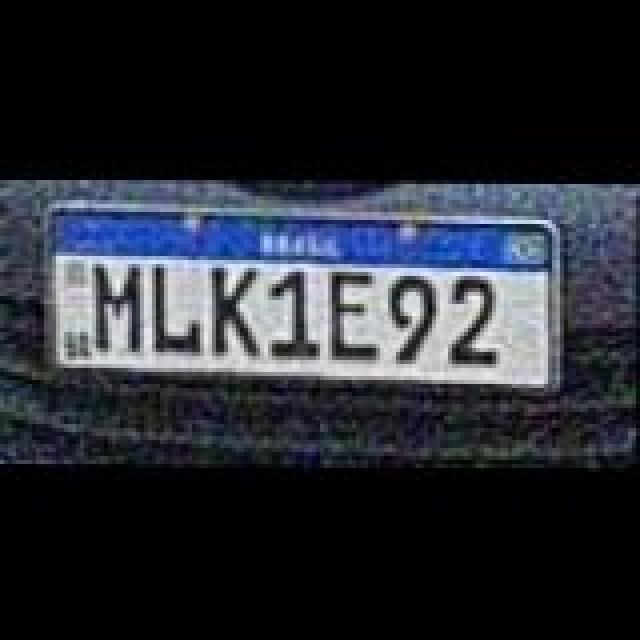1: (268, 266, 320, 354)
2: (450, 272, 498, 364)
9: (390, 268, 438, 360)
E: (334, 264, 382, 356)
K: (214, 264, 262, 356)
L: (148, 264, 200, 356)
M: (98, 258, 146, 350)
